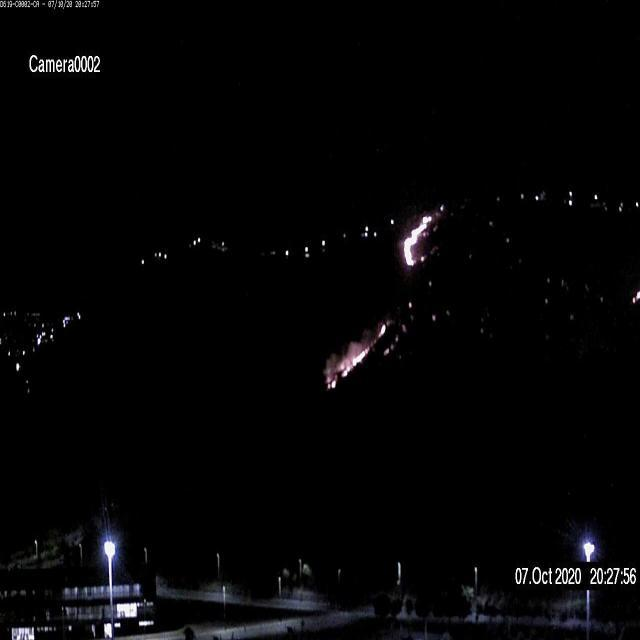Fire: (402, 212, 432, 266), (332, 343, 370, 383)
